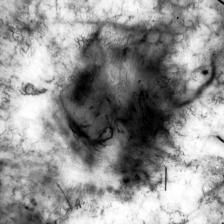Potentially Malignant Skin Tumors: (62, 55, 172, 180)
